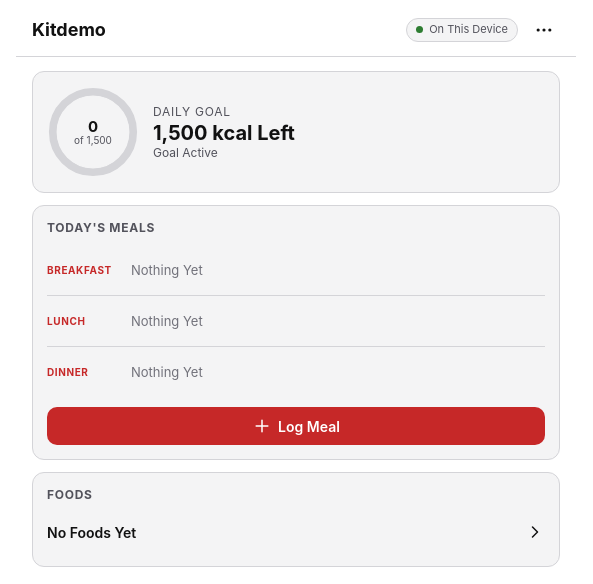
Test: kitdemo Shell goal screen › shows the newest active goal, the same one Home uses, not a newer paused one
Click the button "0 of 1,500 Daily Goal 1,500 kcal Left Goal Active" at (296, 132), box [47, 86, 545, 178]
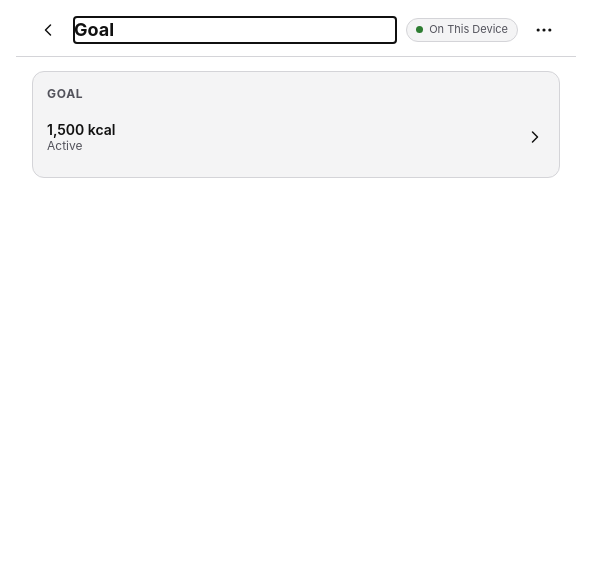
Check: the heading "Goal" next to "On This Device" is shown, box [74, 19, 114, 40]
Check: the element named "Goal" shows "1,500 kcal", box [47, 111, 545, 163]
Check: the element named "Goal" shows "Active", box [47, 111, 545, 163]
